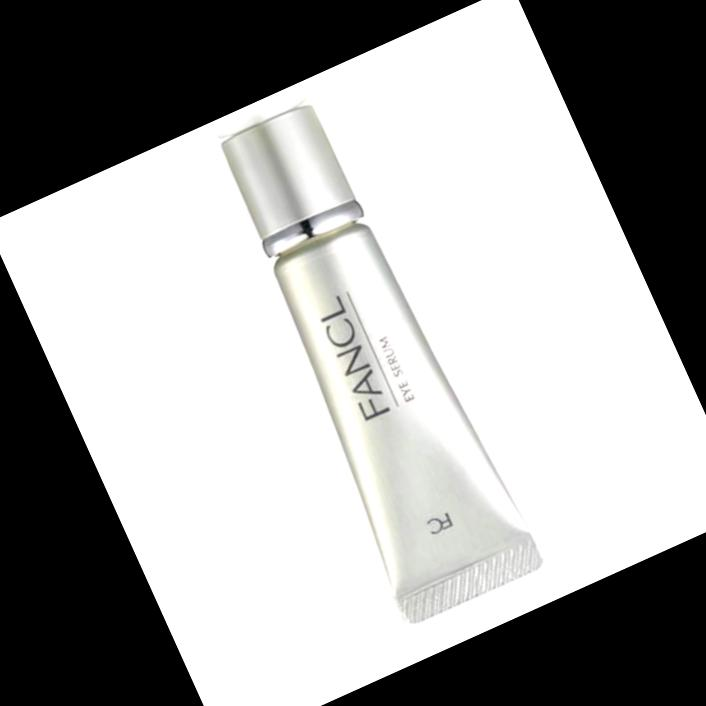cosmetic: (202, 89, 546, 626)
